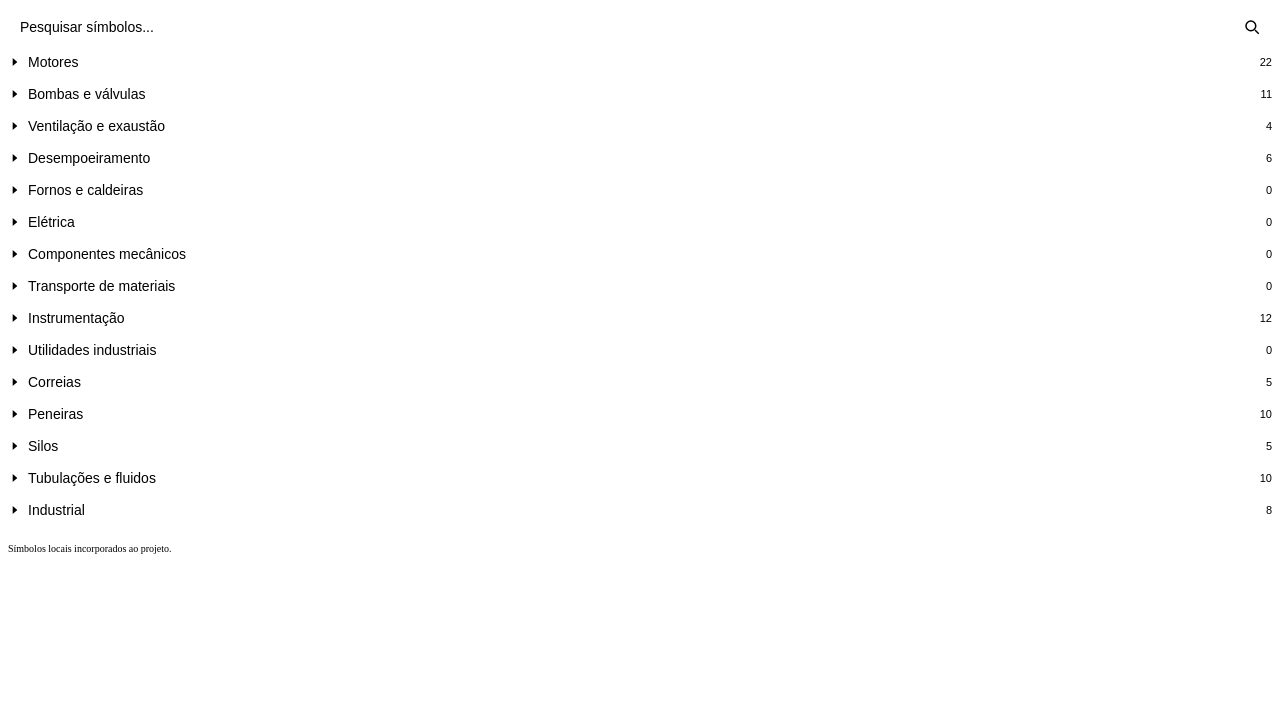
Test case: LibraryPanel › filtra símbolos sem remover as categorias
Type "PV003B" into the field with test id "library-symbol-search" at {"x": 620, "y": 27}, box [8,8,1232,46]
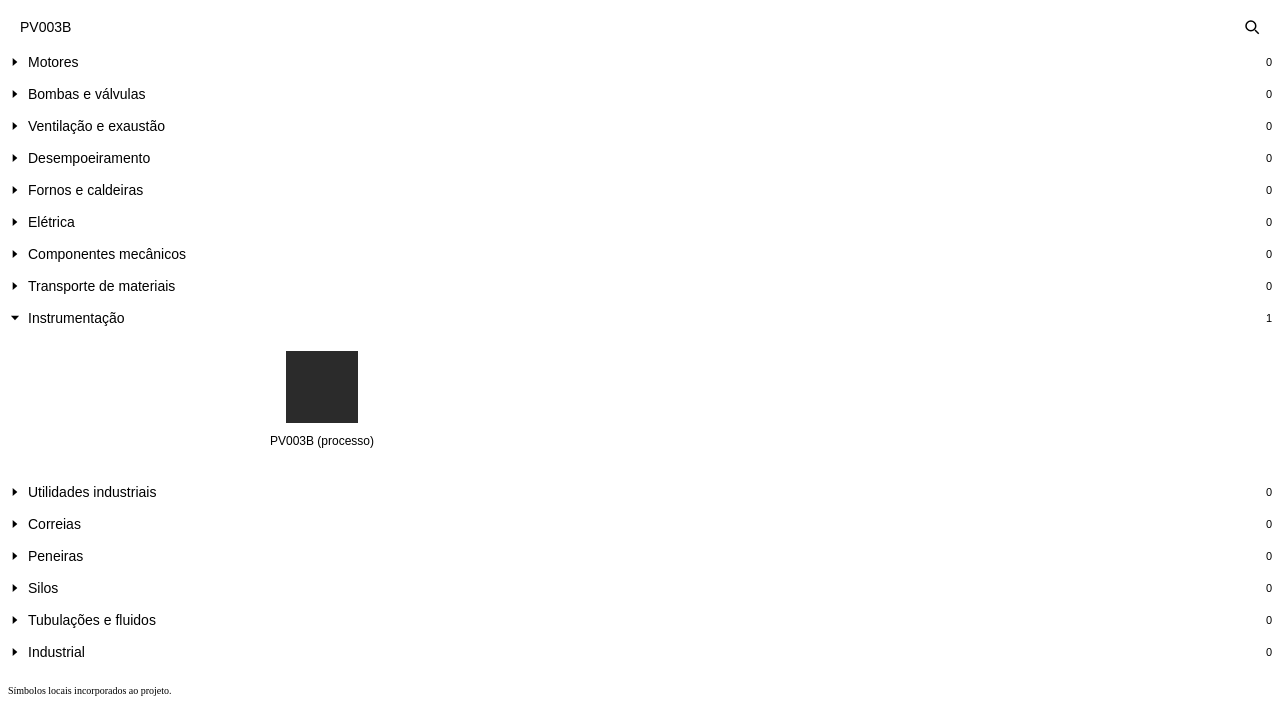
Expected: the text "Motores" is shown, [28,54,79,70]
Expected: the button with test id "library-symbol-PV003B" is shown, [8,336,636,464]
